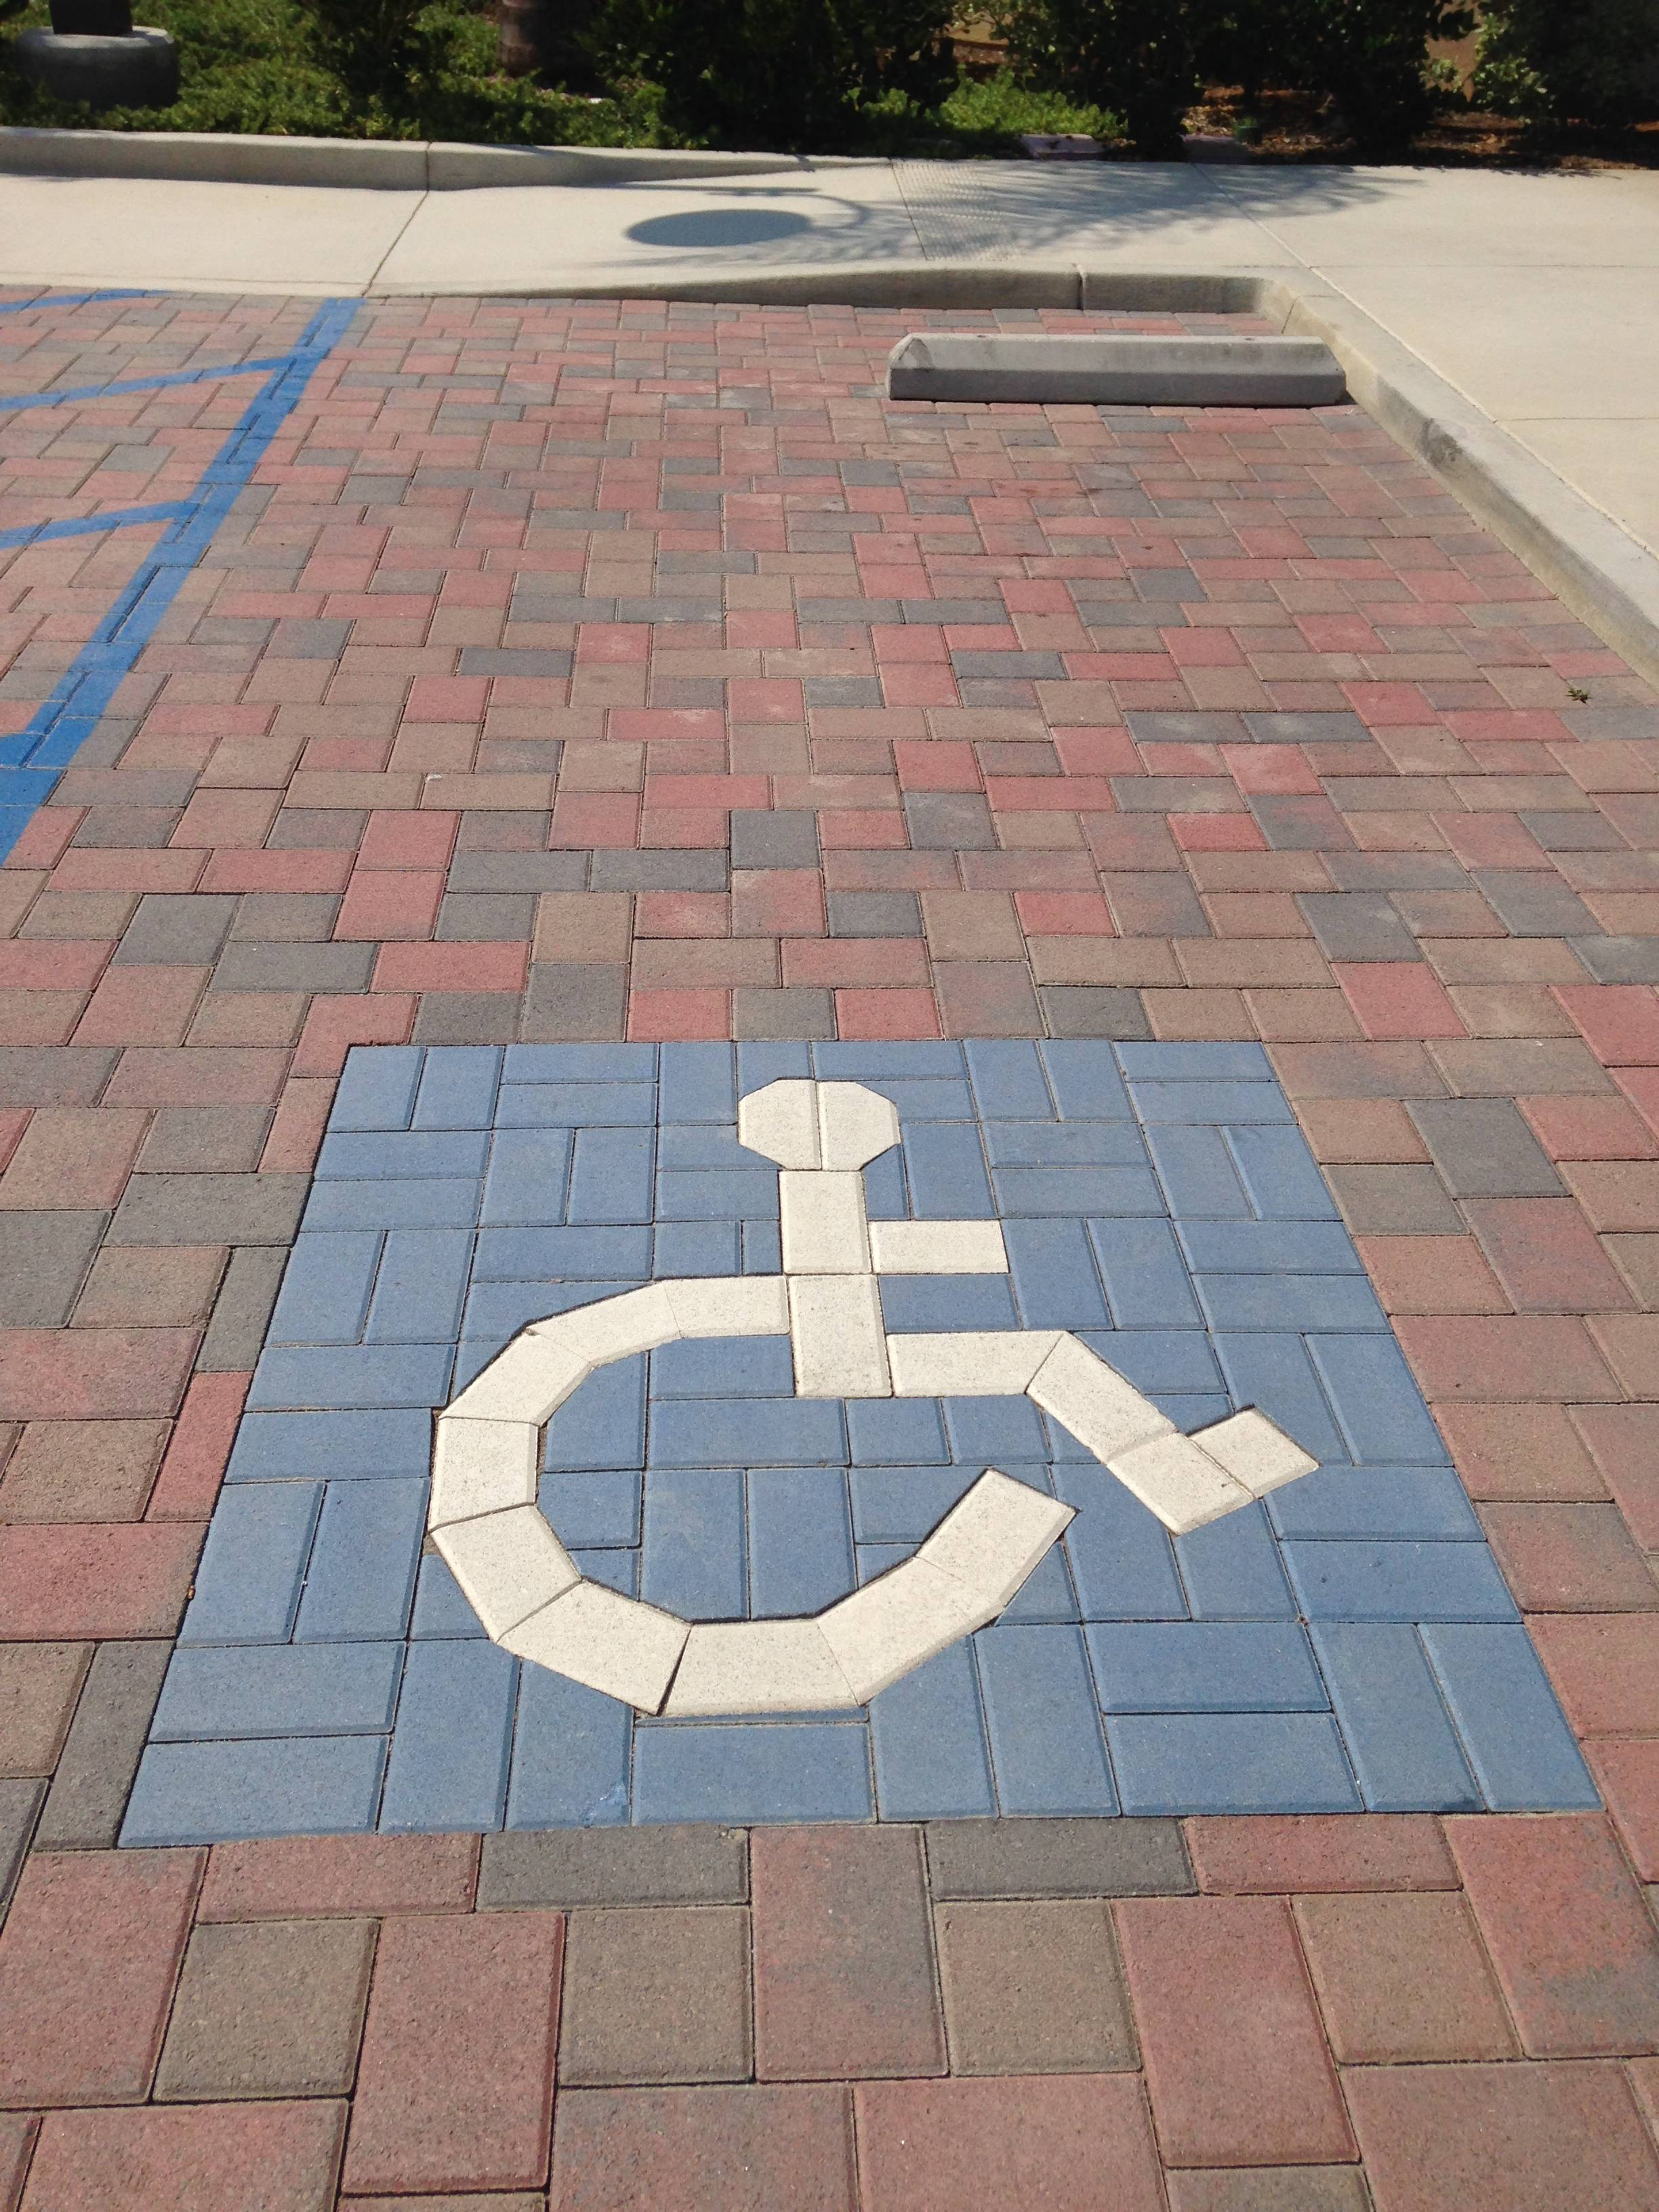empyt_space: (0, 277, 1659, 1864)
